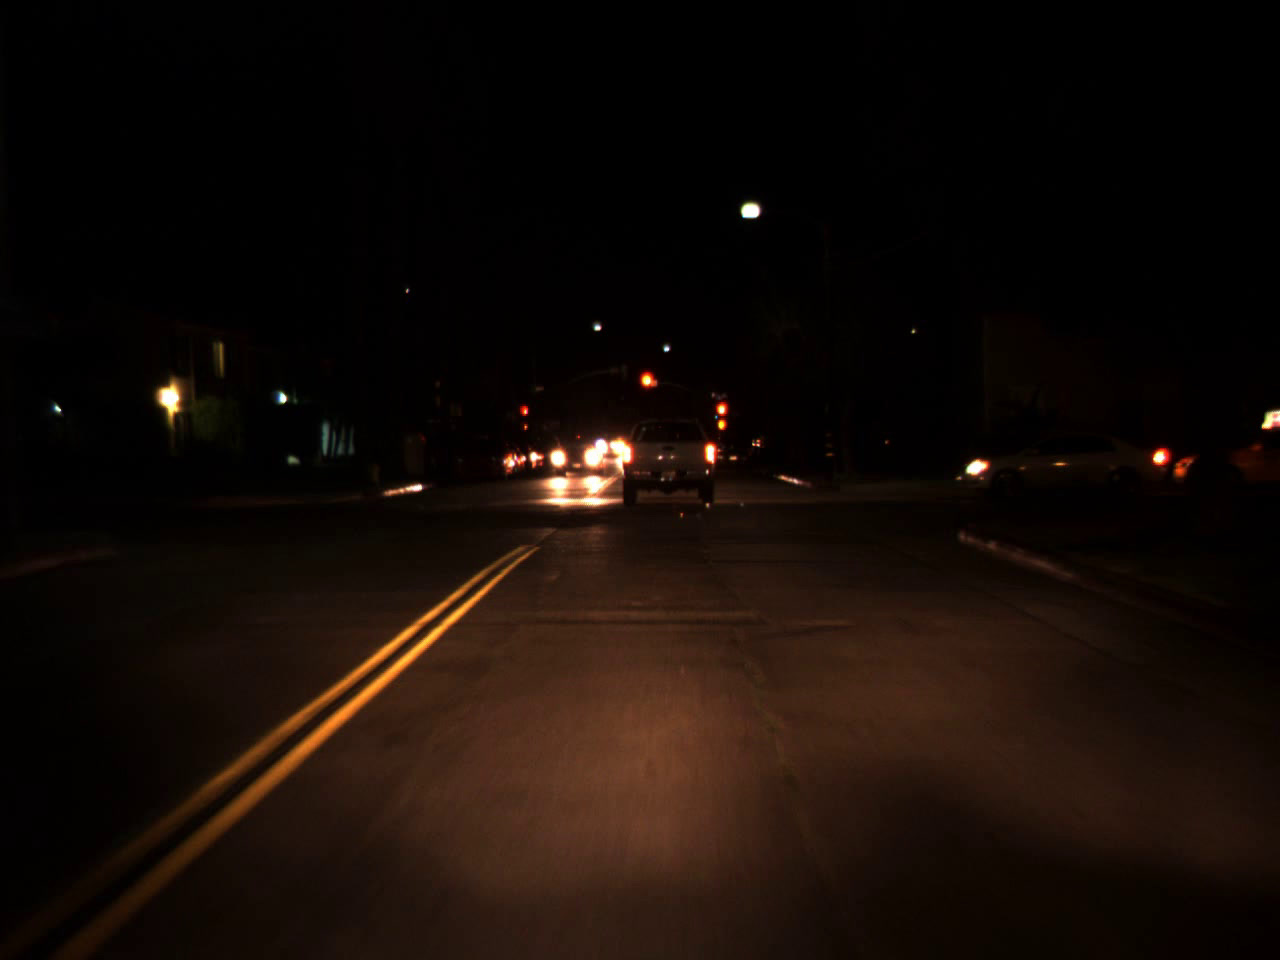stop: (638, 371, 659, 403), (714, 399, 729, 434), (520, 403, 529, 427)
